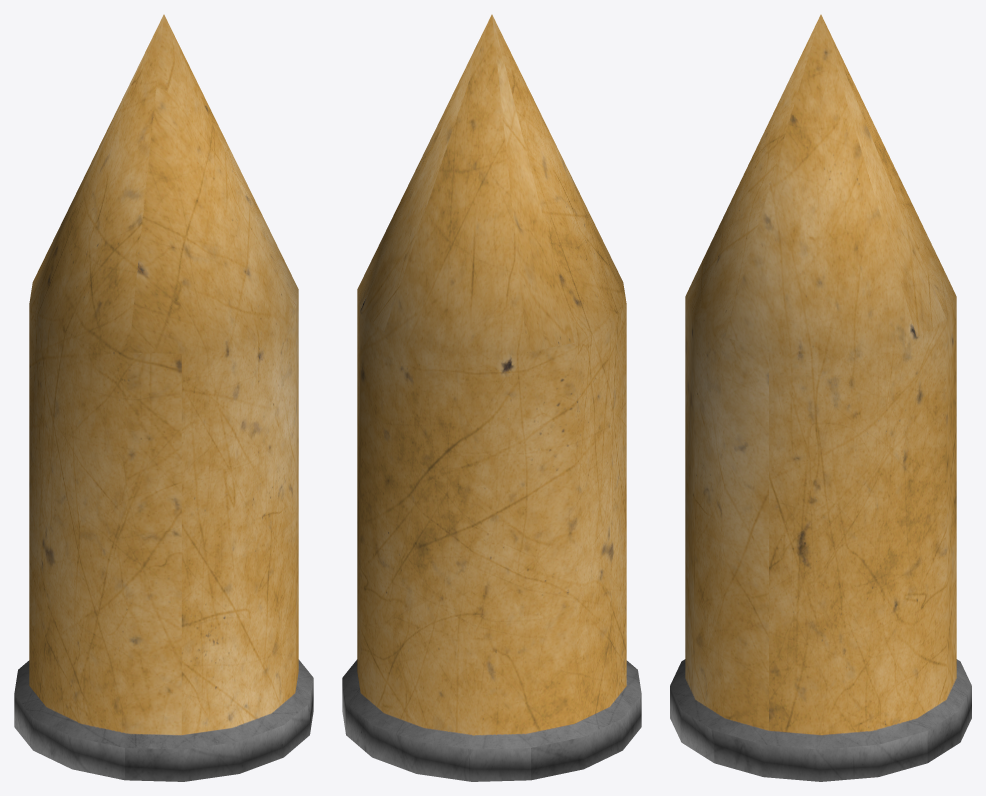
File: BulletPickup.fbx
3 views of the same model, side by side, from view 1: azimuth 30°, elevation 25°; view 2: azimuth 150°, elevation 25°; view 3: azimuth 270°, elevation 25° (orthographic).
Visible parts, largest first — view 1: Cylinder; view 2: Cylinder; view 3: Cylinder.
Part boxes in pixels (x1=…): Cylinder: x1=14, y1=14, x2=313, y2=781; Cylinder: x1=342, y1=14, x2=641, y2=781; Cylinder: x1=670, y1=14, x2=971, y2=781.
Bounding box in the file's own units: 133 × 343 × 133.
Materials: 1 (1 with a texture image).
